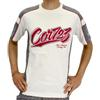abbigliamento_uomo: (10, 3, 92, 100)
